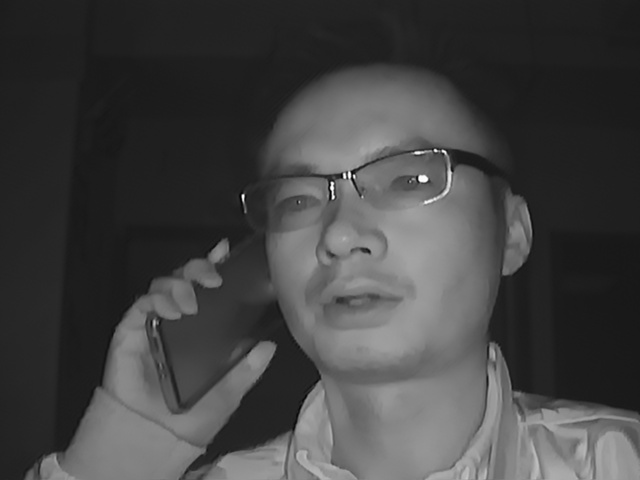hand: (105, 238, 258, 437)
